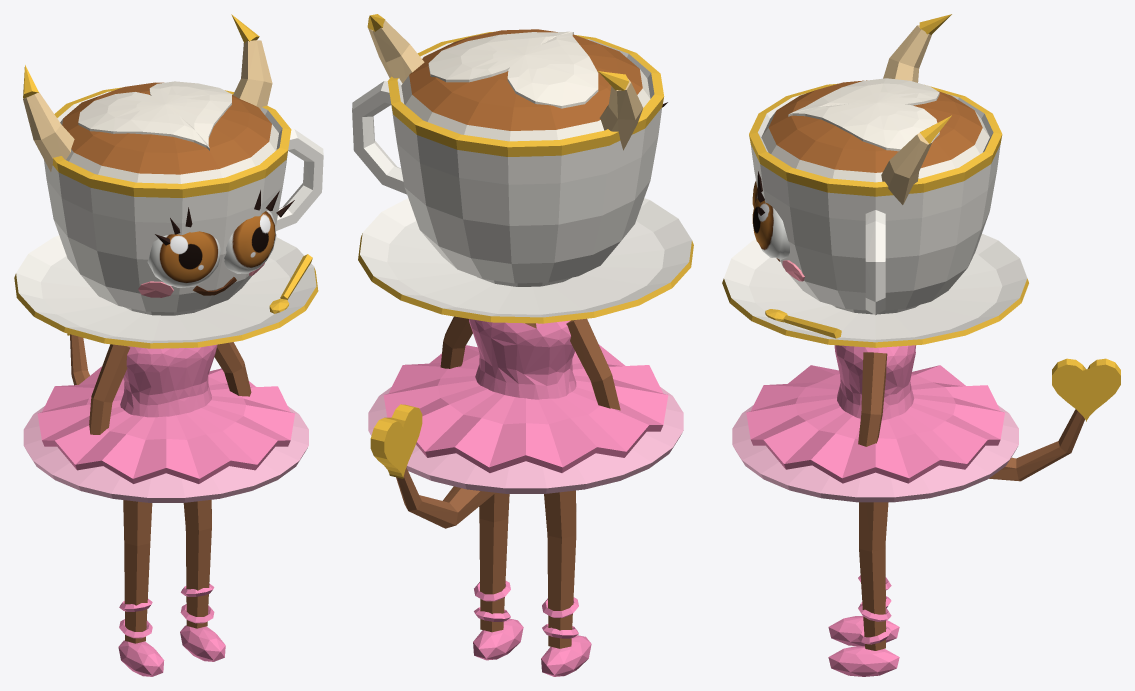
The model's file is skin_cappuccino.glb.
The picture shows the model from 3 angles, left to right: view 1: azimuth 30°, elevation 25°; view 2: azimuth 150°, elevation 25°; view 3: azimuth 270°, elevation 25°; orthographic projection. The views are drawn at different scales.
Visible parts, largest first — view 1: head, body, leg_L, leg_R, arm_L, arm_R, tail; view 2: head, body, leg_L, leg_R, tail, arm_L, arm_R; view 3: head, body, leg_R, tail, arm_R, leg_L.
Part boxes in pixels (left/top/right/bottom): head: left=14, top=14, right=323, bottom=348; body: left=23, top=344, right=308, bottom=502; leg_L: left=118, top=500, right=164, bottom=676; leg_R: left=180, top=500, right=225, bottom=661; arm_L: left=89, top=344, right=129, bottom=434; arm_R: left=214, top=342, right=251, bottom=396; tail: left=67, top=333, right=89, bottom=385; head: left=352, top=14, right=693, bottom=323; body: left=368, top=319, right=683, bottom=493; leg_L: left=541, top=490, right=591, bottom=676; leg_R: left=473, top=492, right=523, bottom=660; tail: left=370, top=404, right=494, bottom=528; arm_L: left=566, top=318, right=620, bottom=410; arm_R: left=440, top=316, right=472, bottom=368; head: left=722, top=14, right=1028, bottom=347; body: left=732, top=345, right=1018, bottom=502; leg_R: left=828, top=502, right=899, bottom=676; tail: left=989, top=358, right=1120, bottom=481; arm_R: left=858, top=352, right=887, bottom=446; leg_L: left=828, top=545, right=899, bottom=646.
Size of the model in its own units: 3.76 by 7.36 by 4.47.
Materials: 13 (1 with a texture image).
